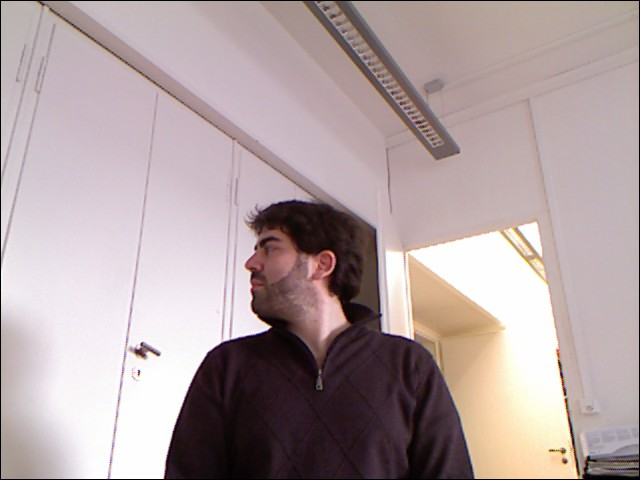deflection: (209, 195, 429, 466)
